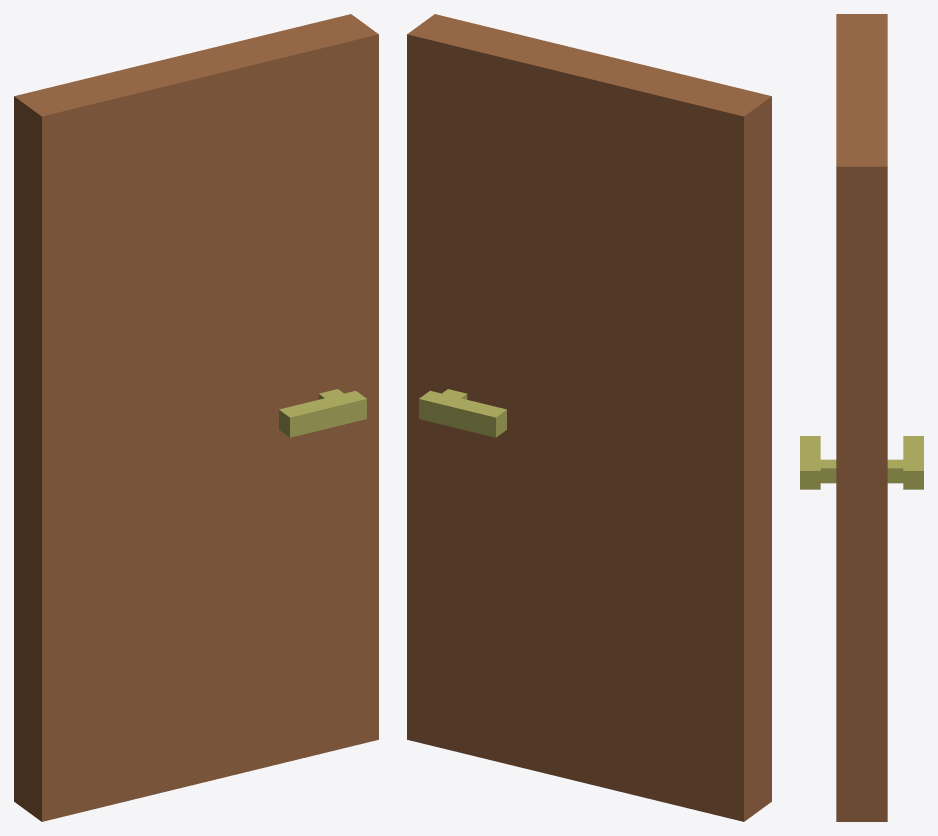
The model's file is Door.fbx.
3 views of the same model, side by side, from view 1: azimuth 30°, elevation 25°; view 2: azimuth 150°, elevation 25°; view 3: azimuth 270°, elevation 25° (orthographic). The views are drawn at different scales.
Parts seen in each view (by area): view 1: Door; view 2: Door; view 3: Door.
Boxes of the visible parts, box(x1,y1,x2,y2) form: Door: box(14, 14, 378, 821); Door: box(407, 14, 771, 821); Door: box(800, 14, 923, 821).
Bounding box in the file's own units: 140 × 280 × 48.
